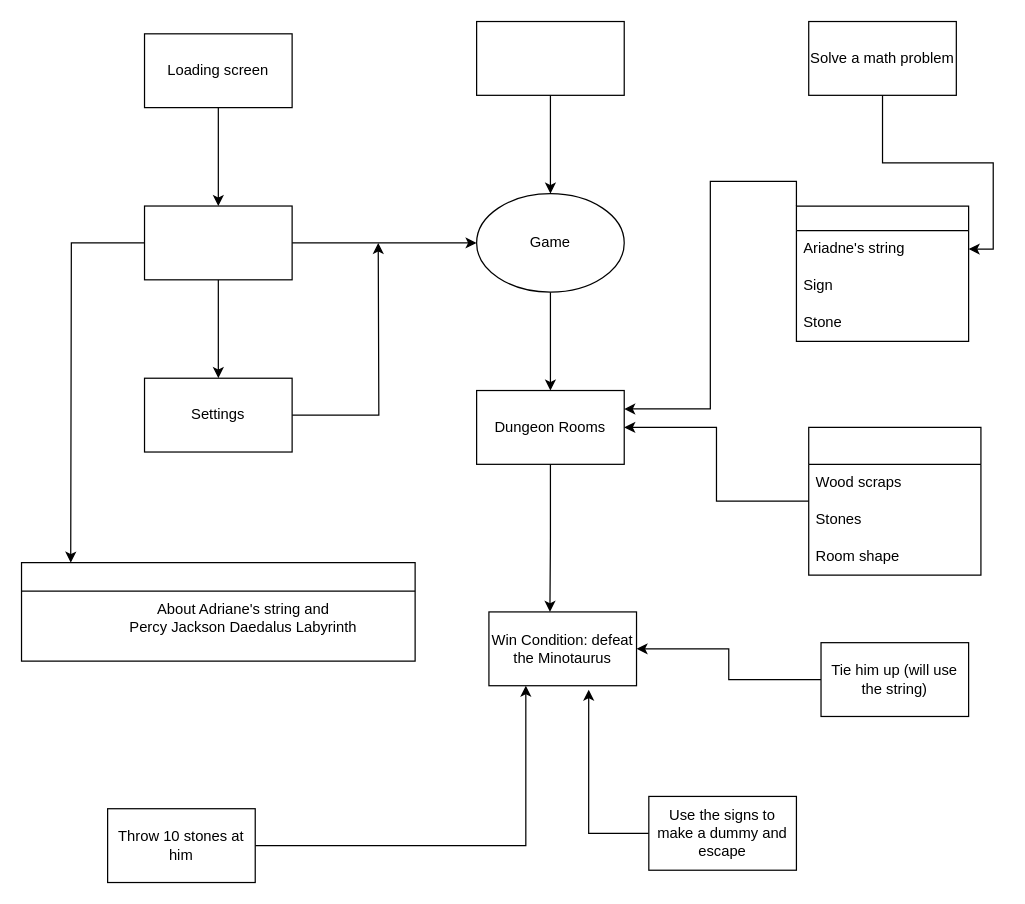
The diagram is 1025 pixels wide and 904 high, and some of its shapes have lost their labels. The box of each missing label's shape, as (x1, y1, x2, y2) in pixels:
Items: (795, 205, 969, 341)
Landmarks: (807, 426, 981, 575)
Lore information: (20, 561, 415, 661)
Main Character: Theseus: (475, 20, 624, 95)
Menu: (143, 205, 292, 280)
